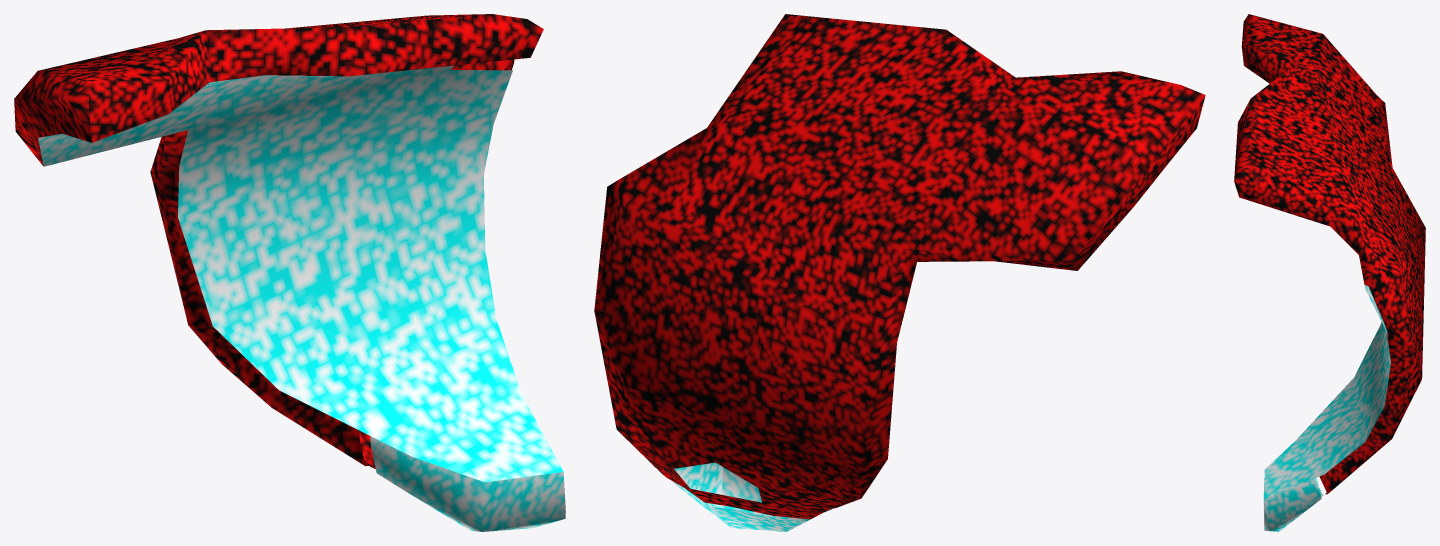
The model's file is SM_BoomDebris_01_HJS.fbx.
3 views of the same model, side by side, from view 1: azimuth 30°, elevation 25°; view 2: azimuth 150°, elevation 25°; view 3: azimuth 270°, elevation 25° (orthographic). The views are drawn at different scales.
Parts seen in each view (by area): view 1: SM_BoomDebris_01_HJS; view 2: SM_BoomDebris_01_HJS; view 3: SM_BoomDebris_01_HJS.
Part boxes in pixels (<box>): SM_BoomDebris_01_HJS: <box>14,14,565,531</box>; SM_BoomDebris_01_HJS: <box>594,14,1205,531</box>; SM_BoomDebris_01_HJS: <box>1234,14,1425,531</box>.
Bounding box in the file's own units: 45.11 × 45.51 × 21.36.
